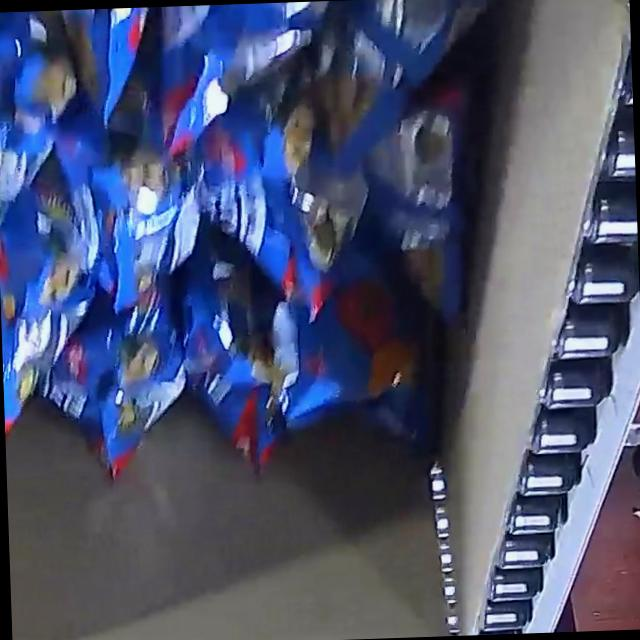paprika: (0, 0, 504, 492)
